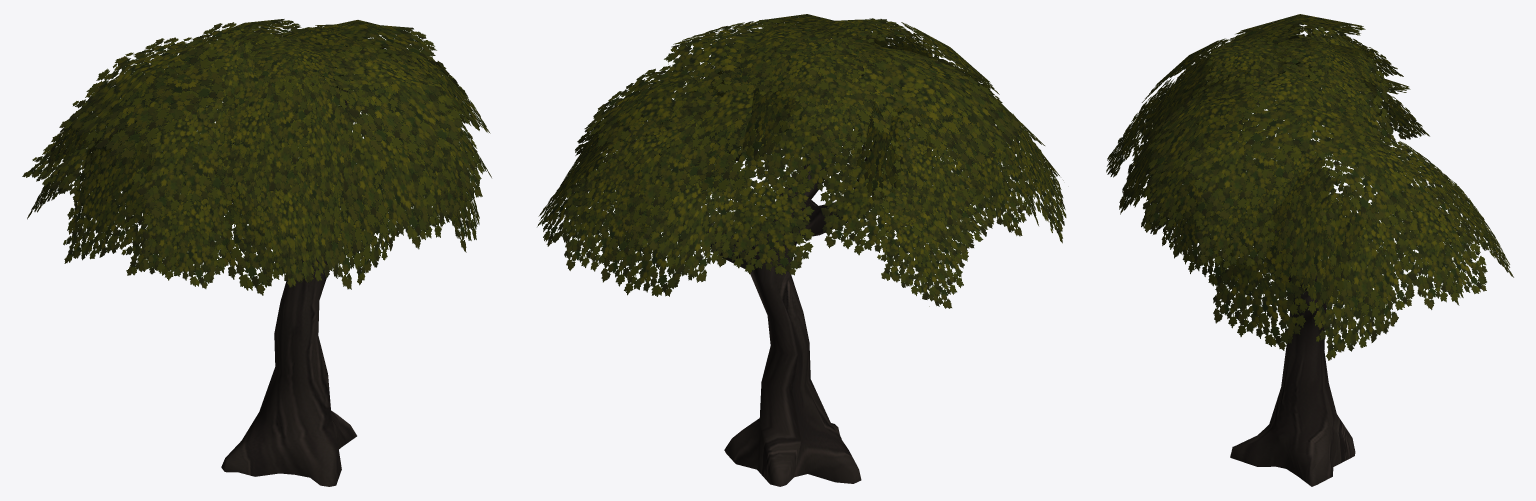
The model's file is fanasty_mod_leaftree02.fbx.
3 renders of one model, left to right at view 1: azimuth 30°, elevation 25°; view 2: azimuth 150°, elevation 25°; view 3: azimuth 270°, elevation 25°, orthographic. The views are drawn at different scales.
Visible parts, largest first — view 1: leaftree_02; view 2: leaftree_02; view 3: leaftree_02.
Boxes of the visible parts, bbox=[...] form: leaftree_02: bbox=[22, 19, 491, 486]; leaftree_02: bbox=[537, 14, 1066, 486]; leaftree_02: bbox=[1106, 14, 1513, 486].
Size of the model in its own units: 8.64 by 7.62 by 7.25.
